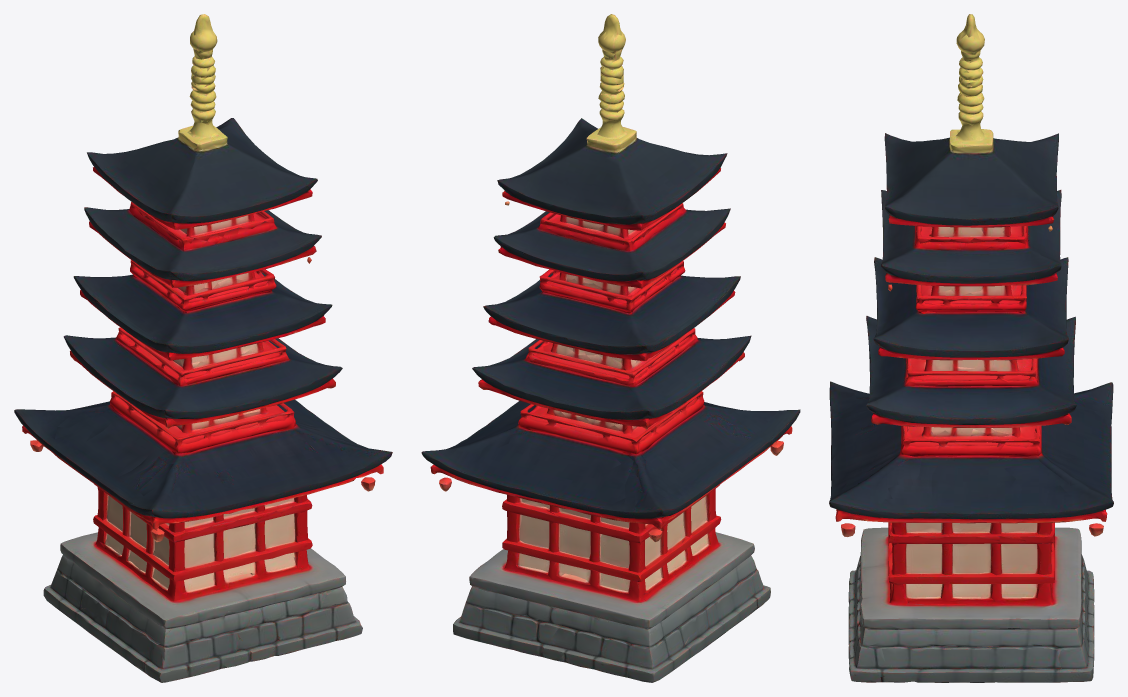
The model's file is pagoda.glb.
The picture shows the model from 3 angles, left to right: view 1: azimuth 30°, elevation 25°; view 2: azimuth 150°, elevation 25°; view 3: azimuth 270°, elevation 25°; orthographic projection. The views are drawn at different scales.
Parts seen in each view (by area): view 1: Mesh; view 2: Mesh; view 3: Mesh.
Boxes of the visible parts, box(x1,y1,x2,y2) form: Mesh: box(14, 14, 392, 682); Mesh: box(421, 14, 800, 682); Mesh: box(829, 14, 1113, 682).
Bounding box in the file's own units: 0.7888 × 1.88 × 0.7866.
Materials: 1 (1 with a texture image).
